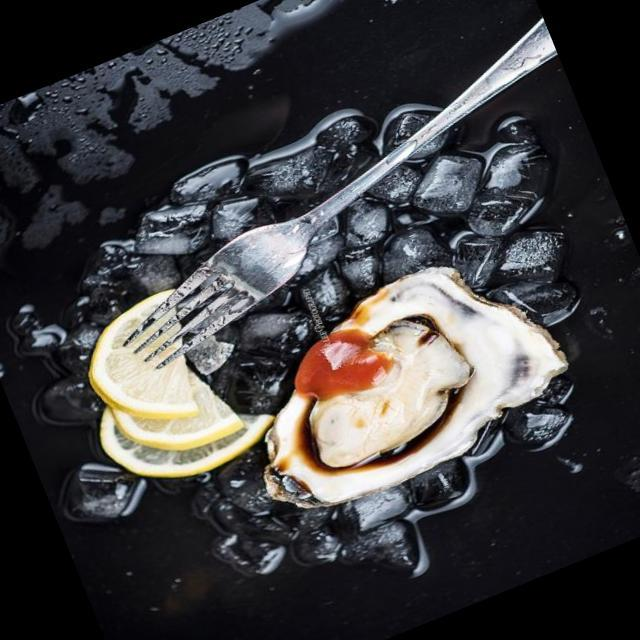Oyster-Open: (208, 230, 583, 530)
